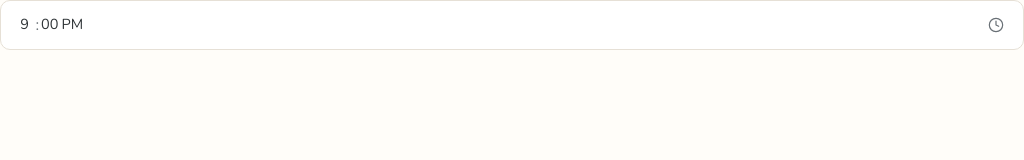
Test: TimePicker — segmented field › typing 'a' on the AM/PM segment sets it back to AM
This screenshot has width=1024, height=160.
Click the field named "Start AM/PM" at [72, 25], box [60,14,84,36]
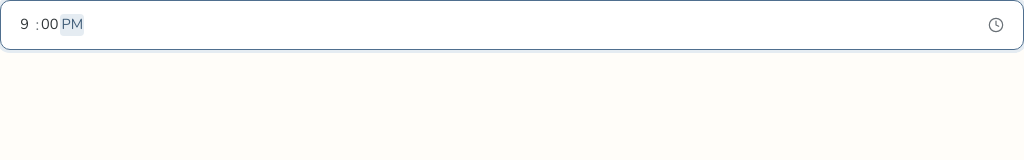
Type keys "a"
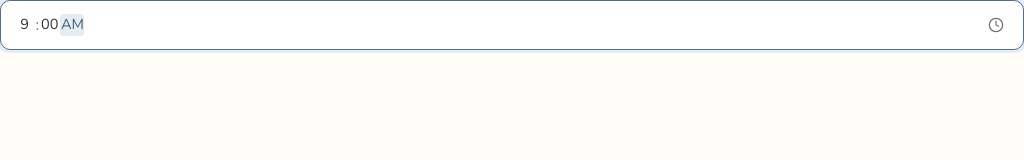
Expected: the field named "Start AM/PM" holds "AM", [60,14,84,36]
